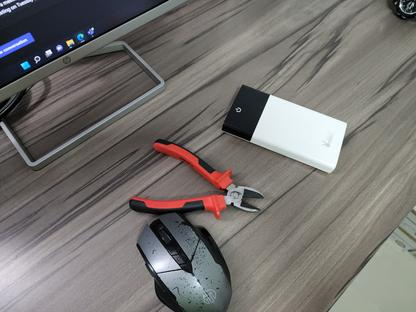mouse: (134, 211, 233, 311)
